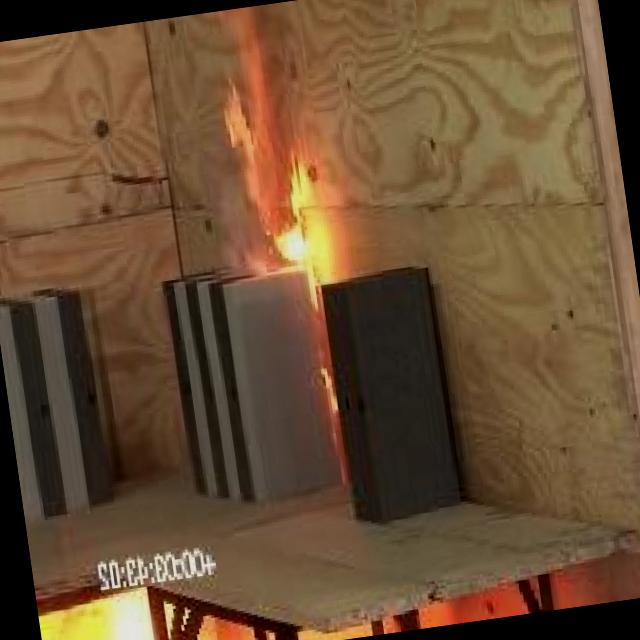fire: (217, 66, 364, 380)
